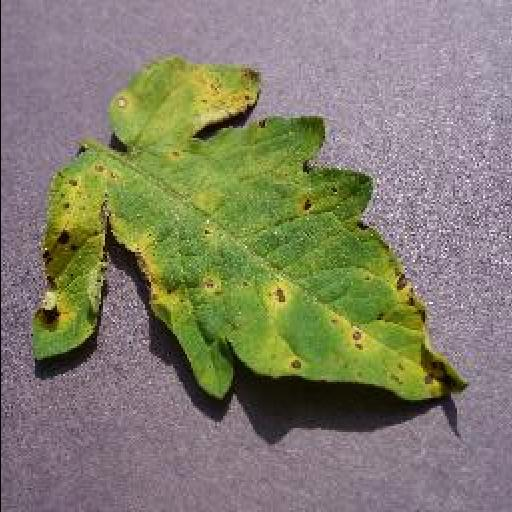disease_tomato: (26, 62, 464, 411)
